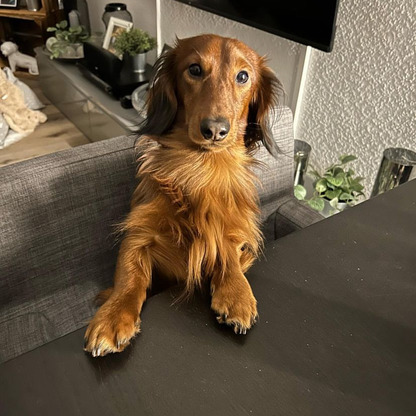dachshund: (79, 30, 300, 368)
